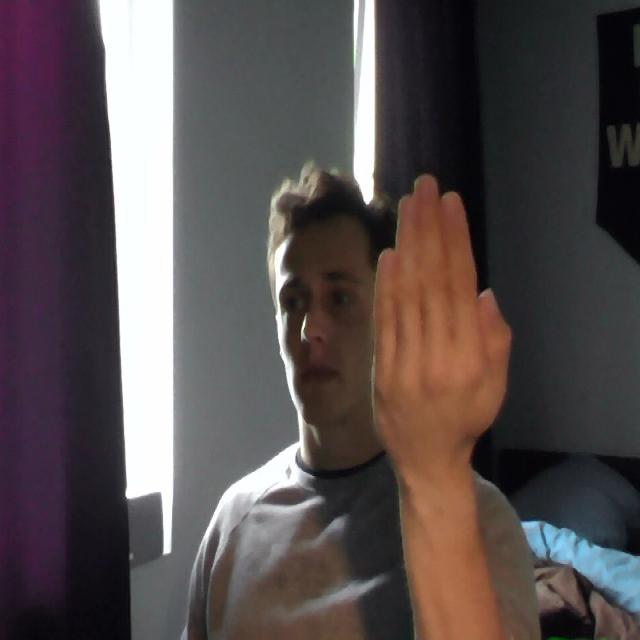forward: (358, 161, 524, 472)
